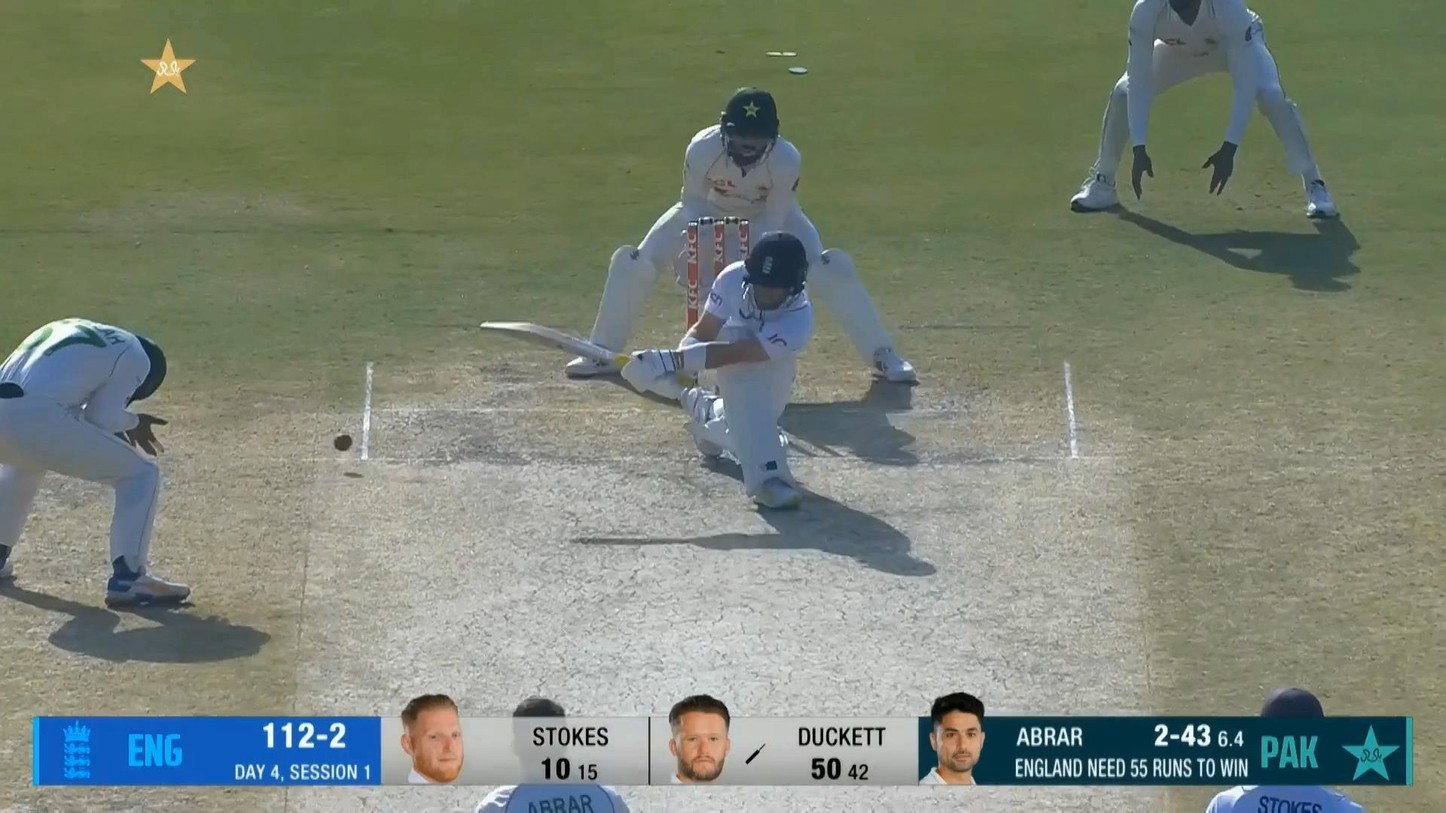BM 1: (480, 231, 812, 510)
BO: (467, 690, 639, 813)
